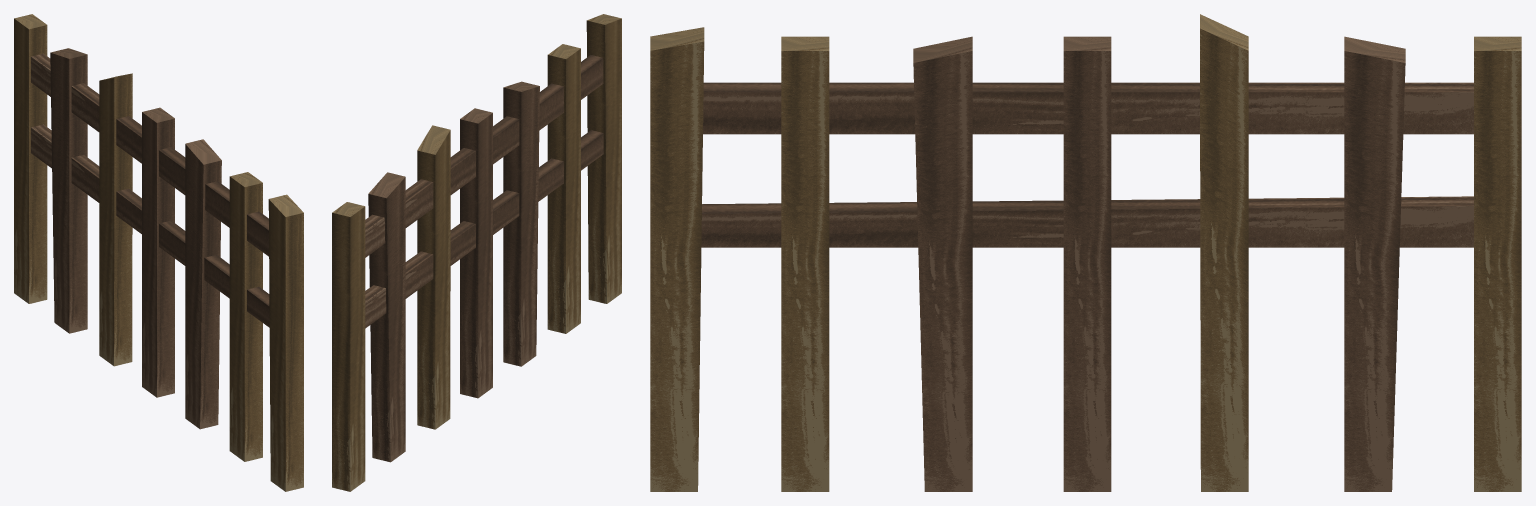
The model's file is LiBa01.fbx.
3 views of the same model, side by side, from view 1: azimuth 30°, elevation 25°; view 2: azimuth 150°, elevation 25°; view 3: azimuth 270°, elevation 25° (orthographic). The views are drawn at different scales.
Parts seen in each view (by area): view 1: LiBa01; view 2: LiBa01; view 3: LiBa01.
Boxes of the visible parts, bbox=[...] form: LiBa01: bbox=[14, 14, 303, 491]; LiBa01: bbox=[332, 14, 621, 491]; LiBa01: bbox=[650, 14, 1521, 491].
Size of the model in its own units: 7.47 by 113 by 192.
